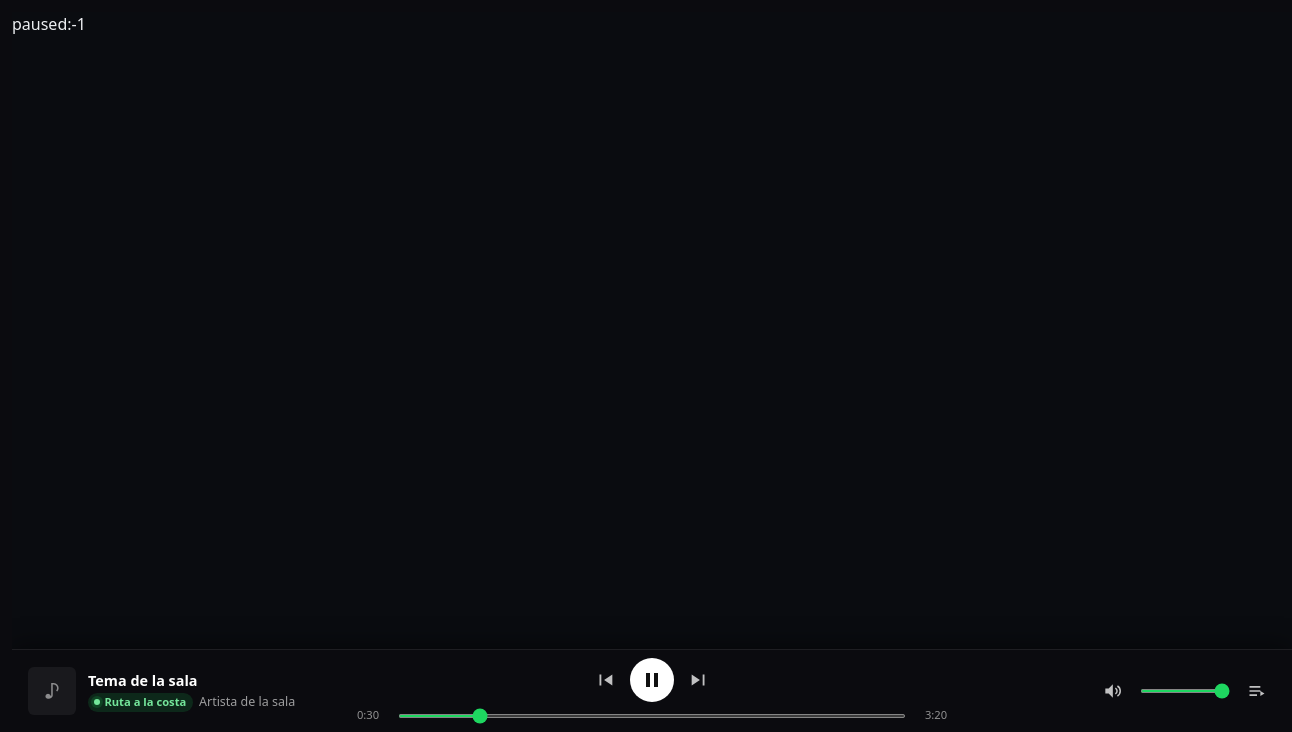
Scenario: NowPlayingBar — a transport command that does not land › announces a dropped connection differently, because the fix is different
Click the button named "Pausar". click: coordinates (652, 680)
box: [630,658,674,702]
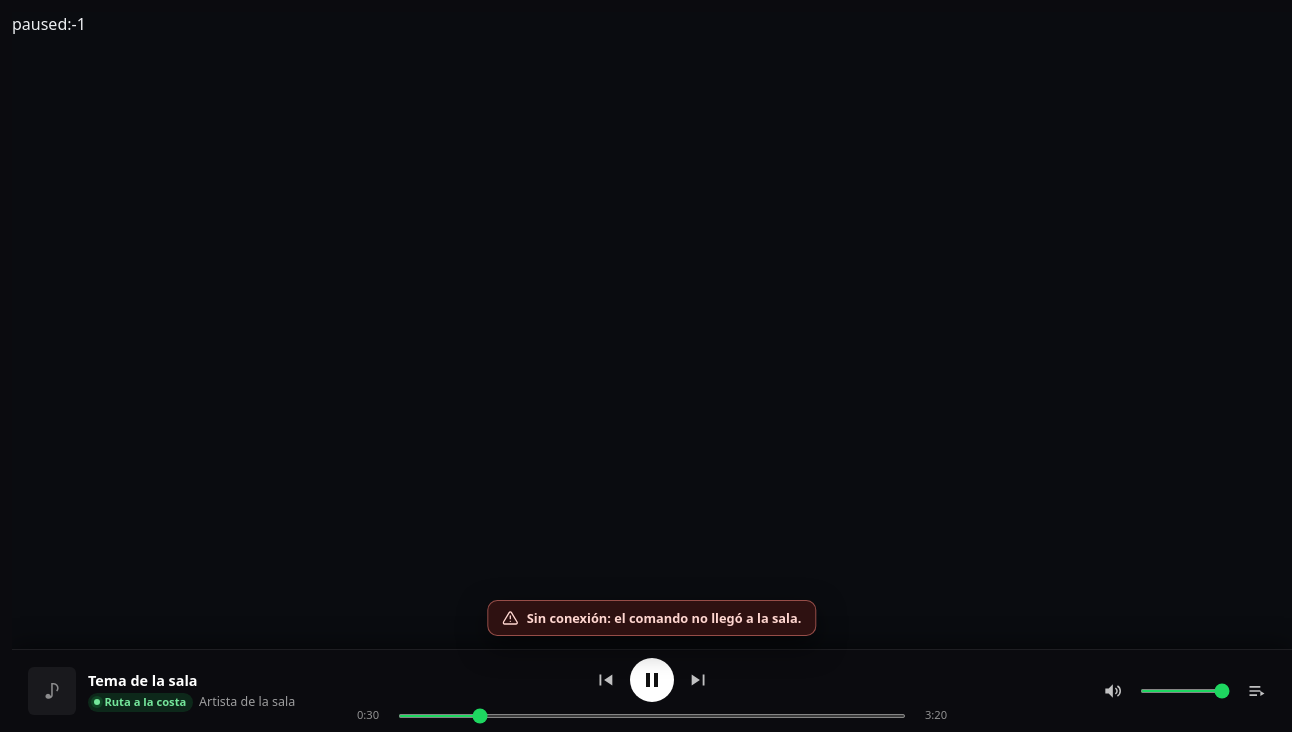
Now the message shows "Sin conexión", box [527,609,801,627]
